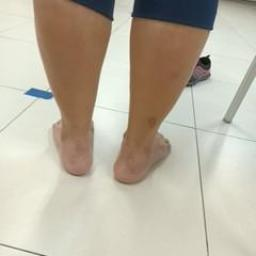Back View -Both Feet-: (35, 84, 195, 200)
